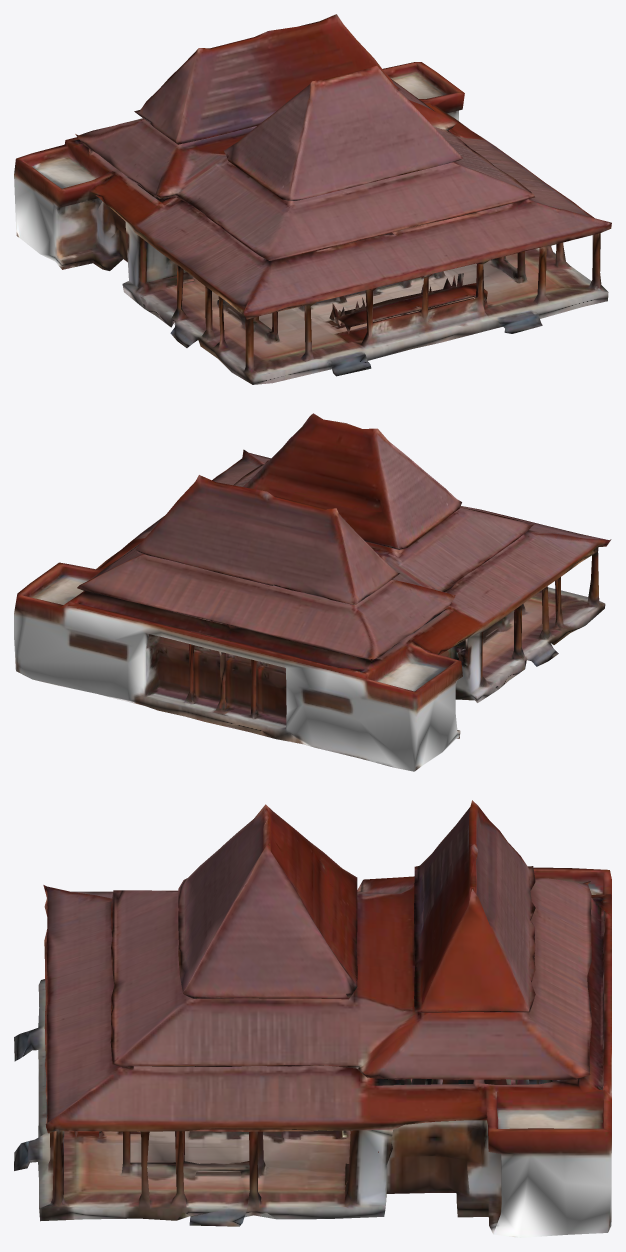
The model's file is adat_jawa.glb.
The picture shows the model from 3 angles, top to bottom: view 1: azimuth 30°, elevation 25°; view 2: azimuth 150°, elevation 25°; view 3: azimuth 270°, elevation 25°; orthographic projection. The views are drawn at different scales.
Visible parts, largest first — view 1: Mesh1.0; view 2: Mesh1.0; view 3: Mesh1.0.
Part boxes in pixels (<box>): Mesh1.0: <box>14,14,611,384</box>; Mesh1.0: <box>14,413,611,771</box>; Mesh1.0: <box>14,800,611,1237</box>.
Size of the model in its own units: 2.01 by 1 by 1.93.
Materials: 1 (1 with a texture image).
